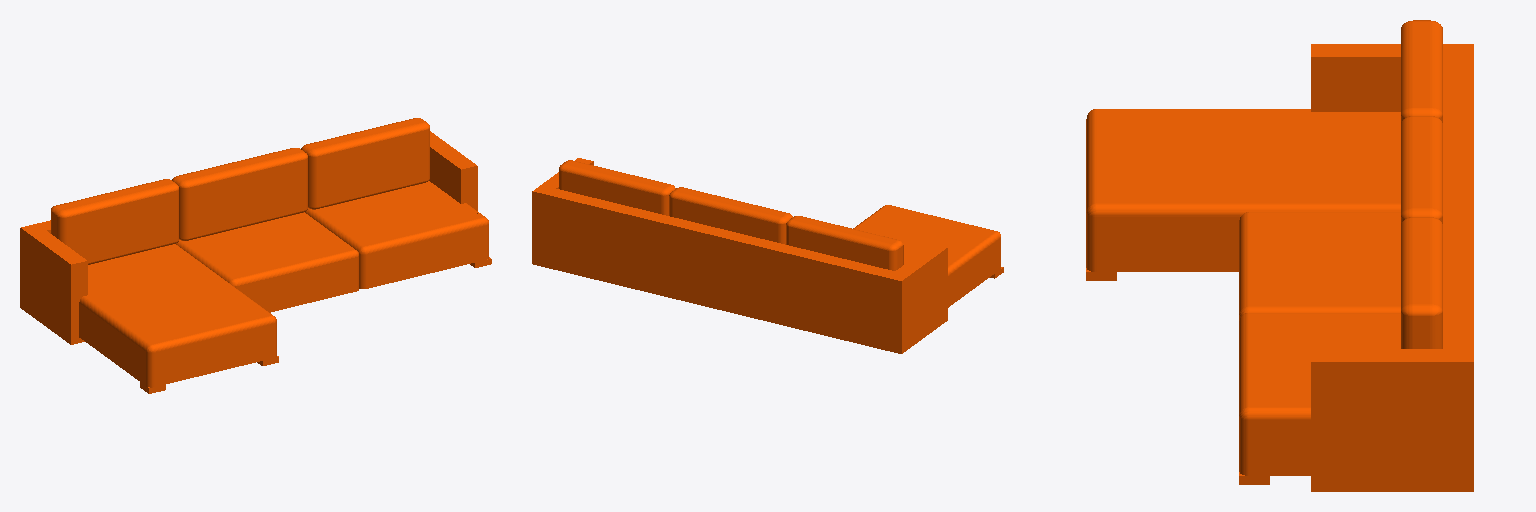
robot.urdf — Couch_71579e02d0b80bcfccebba9929a10b5e:
<?xml version="1.0" ?>
<robot name="Couch_71579e02d0b80bcfccebba9929a10b5e">
   <material name="obj_color">
      <color rgba="1.0 0.423529411765 0.0392156862745 1.0"/>
   </material>
   <link name="top">
      <inertial>
         <origin rpy="0.001725832557957056 0.00724972161217864 0.008361171753772122" xyz="0.001318433472387639 -0.003775032738013108 -0.008490180972705935"/>
         <mass value="1.365190679240345"/>
         <inertia ixx="0.001794157911737246" ixy="-0.0006074784161954614" ixz="-6.360153839774464e-05" iyy="0.007216210183076503" iyz="-0.0001988435162497638" izz="0.008326357829094071"/>
      </inertial>
      <visual>
         <origin rpy="0 0 0" xyz="0 0 0"/>
         <geometry>
            <mesh filename="top_watertight_tiny.stl" scale="1 1 1"/>
         </geometry>
         <material name="obj_color"/>
      </visual>
      <collision>
         <origin rpy="0 0 0" xyz="0 0 0"/>
         <geometry>
            <mesh filename="top_watertight_tiny.obj" scale="1 1 1"/>
         </geometry>
      </collision>
   </link>
   <link name="bottom">
      <inertial>
         <origin rpy="1.633333333199431e-08 1.633333333199431e-08 1.633333333362855e-08" xyz="0.3464080000000008 0.3464080000000008 0.3464080000000008"/>
         <mass value="0.0009800000000000017"/>
         <inertia ixx="1.633333333253906e-08" ixy="5.447480642029219e-19" ixz="5.447480642029219e-19" iyy="1.633333333253906e-08" iyz="5.447480642029219e-19" izz="1.633333333253906e-08"/>
      </inertial>
      <visual>
         <origin rpy="0 0 0" xyz="0 0 0"/>
         <geometry>
            <mesh filename="bottom_watertight_tiny.stl" scale="1 1 1"/>
         </geometry>
         <material name="obj_color"/>
      </visual>
   </link>
   <link name="world"/>
   <joint name="world_to_base" type="fixed">
      <origin xyz="0 0 0"/>
      <axis xyz="0 0 0"/>
      <parent link="world"/>
      <child link="bottom"/>
   </joint>
   <joint name="rotation" type="revolute">
      <origin xyz="0 0 0"/>
      <axis xyz="0 0 -1"/>
      <parent link="bottom"/>
      <child link="top"/>
      <dynamics damping="1.0" friction="1.0"/>
      <limit effort="0.1" velocity="0.1" lower="0" upper="0.001"/>
   </joint>
</robot>

--- What the picture shows (computed from the rendered views, not written in the file) ---
The picture shows the robot from 3 angles, left to right: view 1: azimuth 30°, elevation 25°; view 2: azimuth 150°, elevation 25°; view 3: azimuth 270°, elevation 25°; orthographic projection.
Model Couch_71579e02d0b80bcfccebba9929a10b5e with 3 links and 2 joints (1 revolute, 1 fixed), rooted at world, posed every joint at zero.
Links seen in each view (by area): view 1: top; view 2: top; view 3: top.
Boxes of the visible links, <box> form: top: <box>20,118,491,393</box>; top: <box>532,158,1003,353</box>; top: <box>1086,20,1473,491</box>.
Size in the robot's own frame: 0.2549 by 0.1309 by 0.0634 metres.
Meshes: 2 distinct files referenced, 1 mesh visuals loaded (1 binary STL); not drawn: 1 (reference not matched to a file when rendering).
